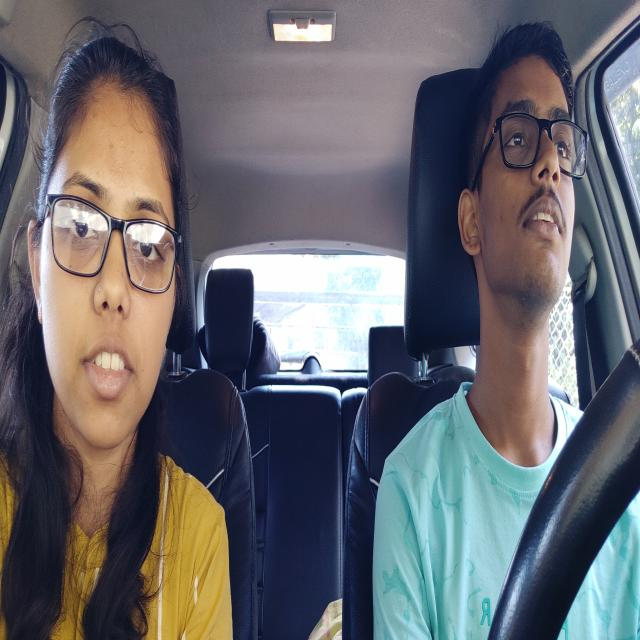person: (23, 28, 182, 447), (455, 7, 595, 350)
